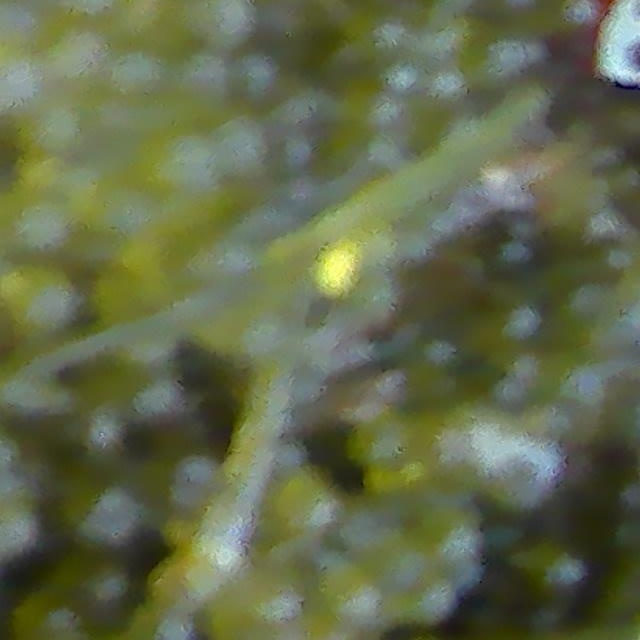SeaGrape: (1, 260, 77, 340), (184, 0, 254, 50), (80, 487, 139, 545)
